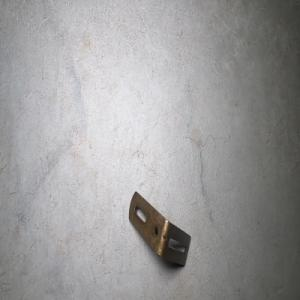MetalPart: (127, 189, 191, 267)
